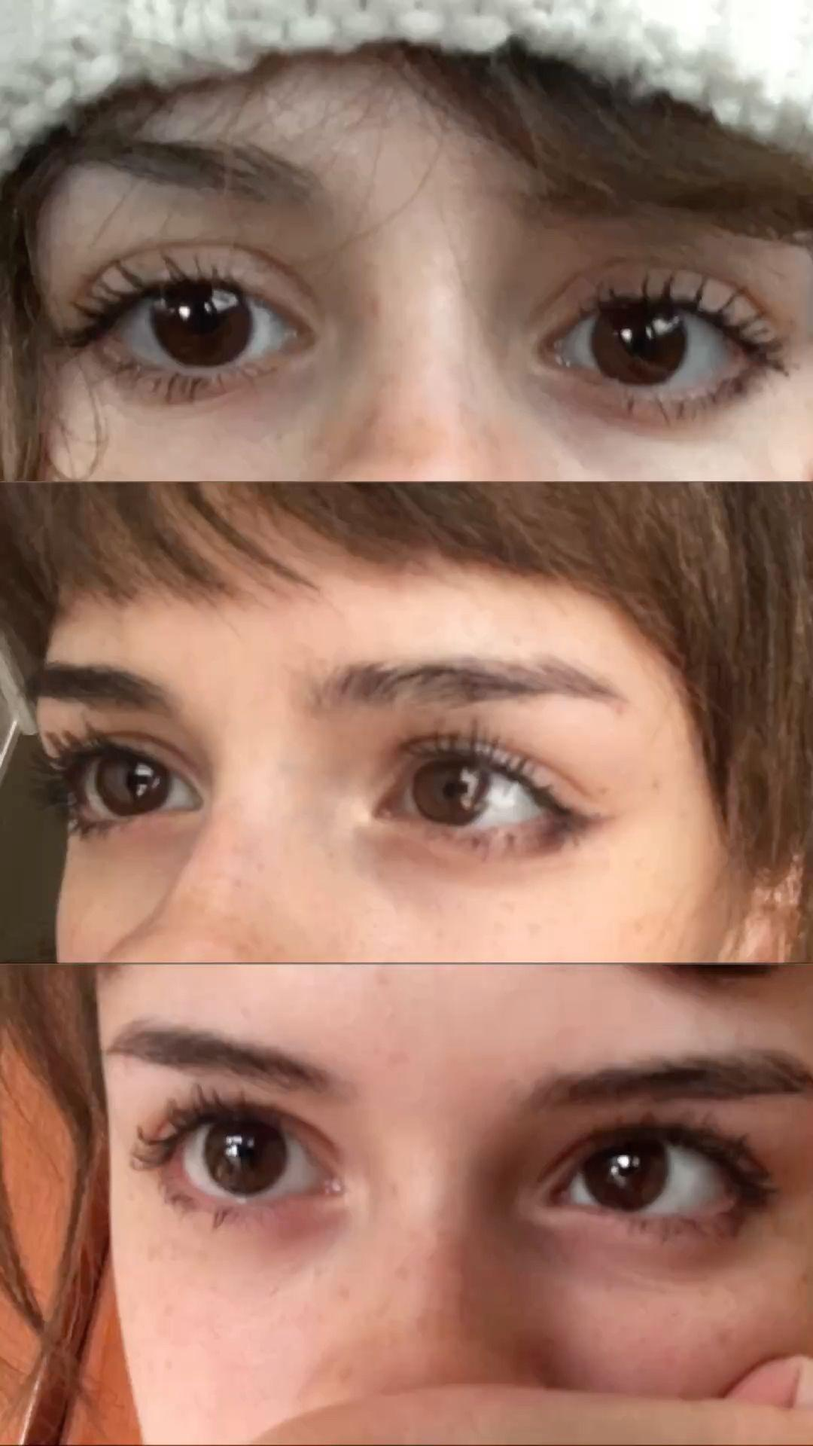non-dog: (0, 0, 813, 482), (0, 964, 813, 1446), (0, 482, 813, 963)
